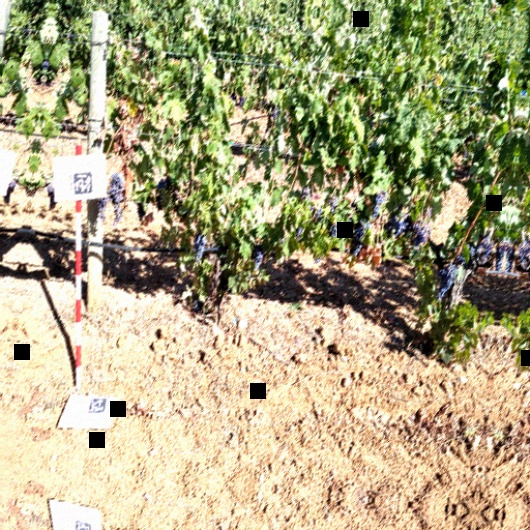QR: (71, 170, 94, 195), (88, 394, 107, 414)
